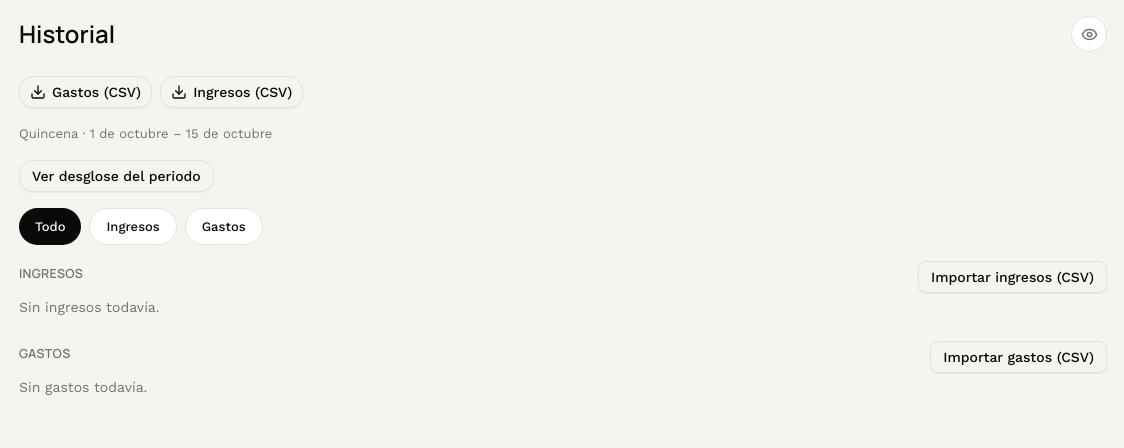
Test: Historial — exportar a CSV (función de Pro) › si la descarga falla, muestra el error
Click the button "Gastos (CSV)".
click(86, 92)  # box 19,76 -> 152,108
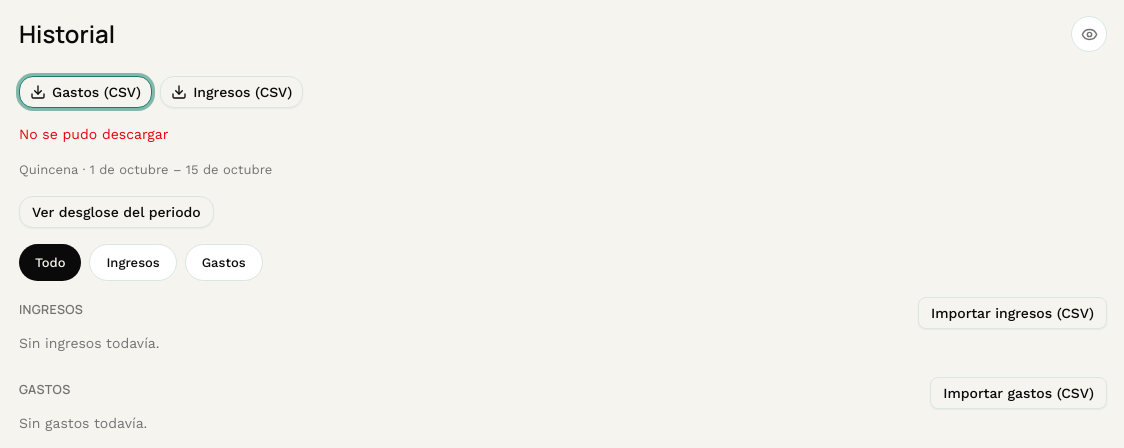
Check: the text "No se pudo descargar" is shown, box 19,126 -> 168,142
